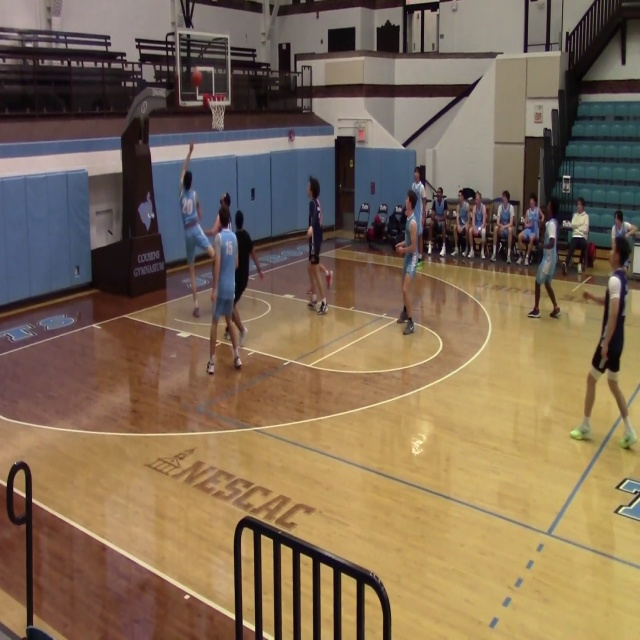Basketball: (191, 71, 203, 86), (395, 245, 404, 256)
